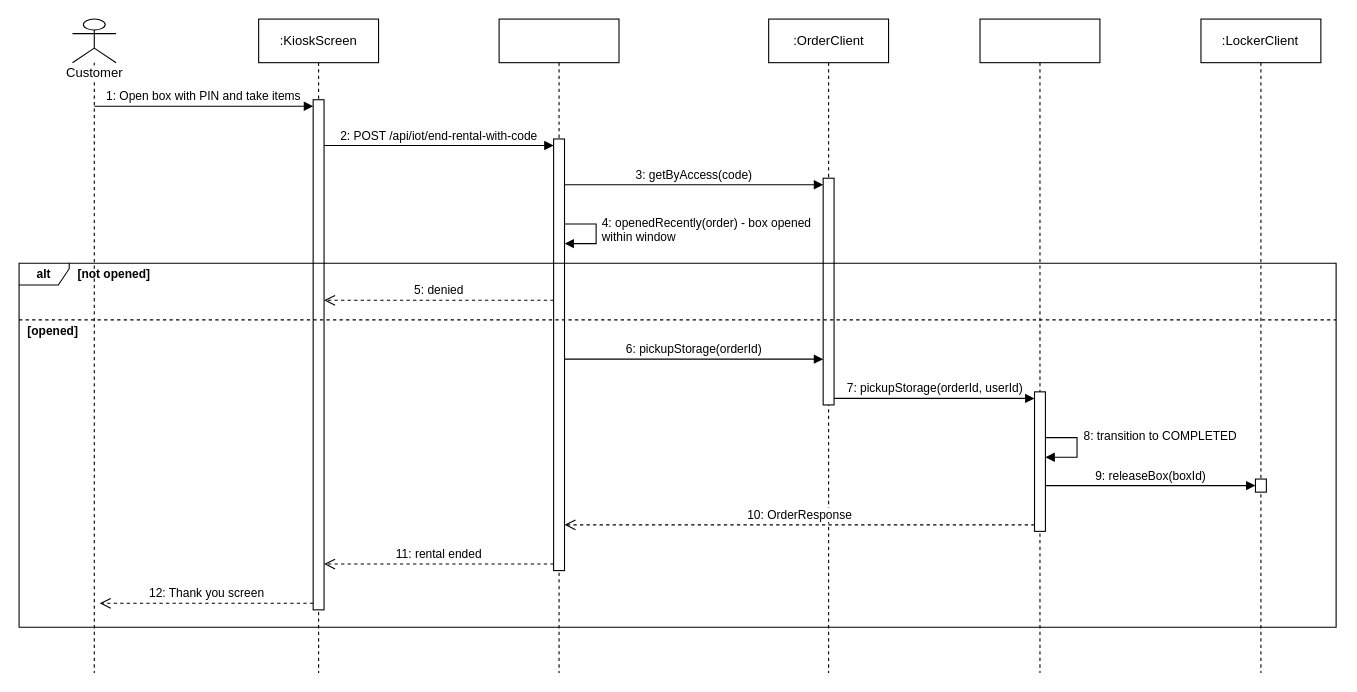
The diagram is 1357 pixels wide and 692 high, and some of its shapes have lost their labels. The box of each missing label's shape, as (x1, y1, x2, y2) in pixels:
:IotService: (498, 18, 619, 673)
:OrderService: (979, 18, 1100, 673)
